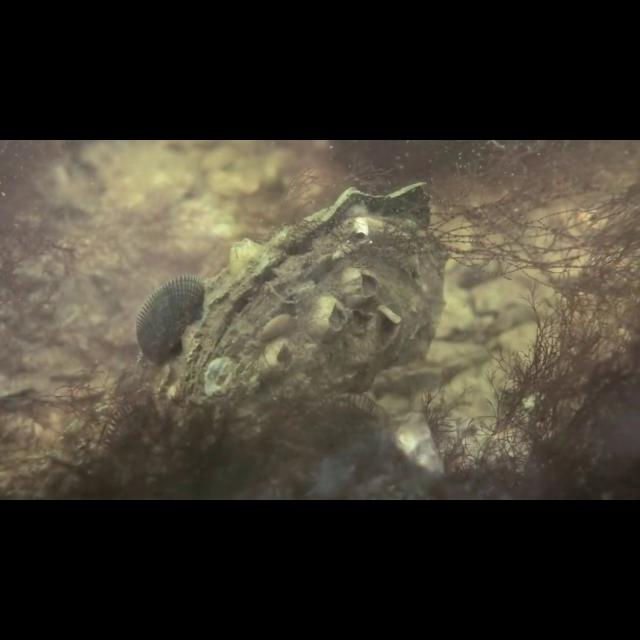Oyster-Closed: (166, 178, 451, 427)
